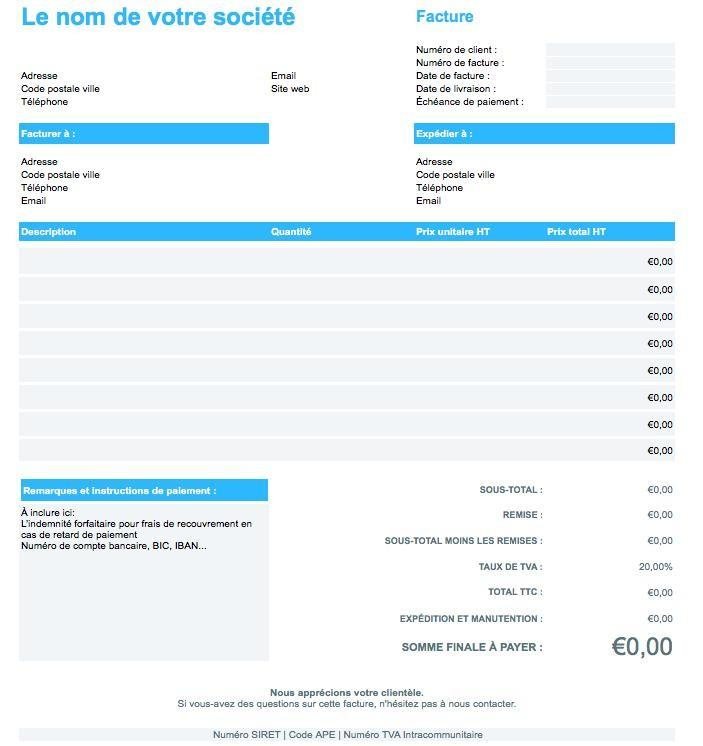ROI: (18, 221, 680, 462), (17, 124, 676, 217), (384, 474, 680, 658), (14, 1, 394, 121), (21, 481, 268, 648), (411, 2, 683, 118)
